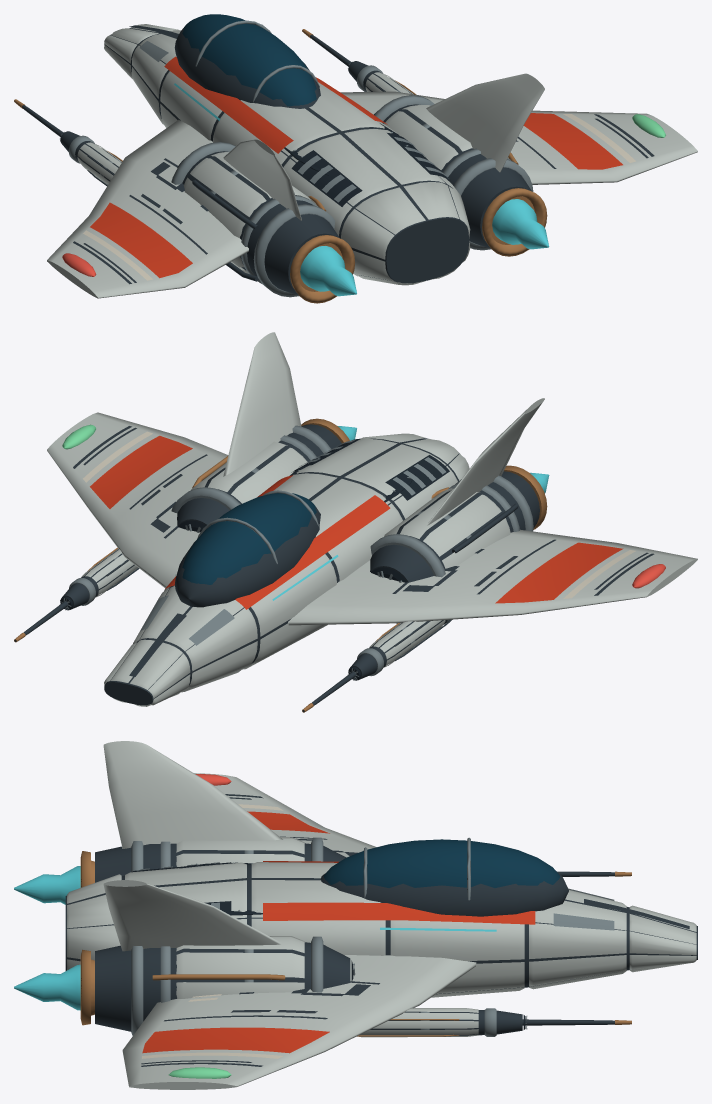
File: strike.glb
3 renders of one model, top to bottom at view 1: azimuth 30°, elevation 25°; view 2: azimuth 150°, elevation 25°; view 3: azimuth 270°, elevation 25°, orthographic. The views are drawn at different scales.
Parts seen in each view (by area): view 1: strike; view 2: strike; view 3: strike.
Part boxes in pixels (x1,y1,x2,y2): strike: [14, 14, 697, 303]; strike: [14, 332, 697, 712]; strike: [14, 741, 697, 1089].
Size of the model in its own units: 12.28 by 3.3 by 11.49.
